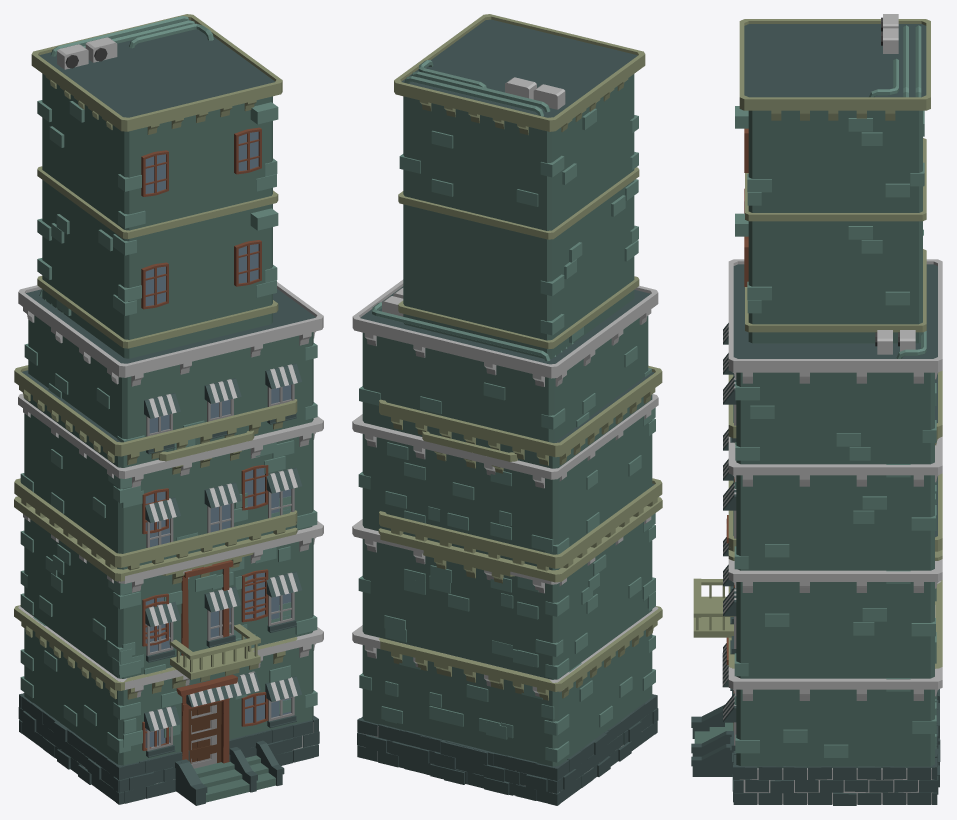
File: city.glb
3 renders of one model, left to right at view 1: azimuth 30°, elevation 25°; view 2: azimuth 150°, elevation 25°; view 3: azimuth 270°, elevation 25°, orthographic.
Parts seen in each view (by area): view 1: 6Story_Stack_Mat, 4Story_Mat, 2Story_Balcony_Mat, 3Story_Slim_Mat; view 2: 6Story_Stack_Mat, 4Story_Mat, 2Story_Balcony_Mat, 3Story_Slim_Mat; view 3: 4Story_Mat, 6Story_Stack_Mat, 2Story_Balcony_Mat.
Part boxes in pixels (box(x1,y1,x2,y2)): 6Story_Stack_Mat: box(14, 14, 297, 804); 4Story_Mat: box(18, 282, 323, 804); 2Story_Balcony_Mat: box(14, 478, 297, 805); 3Story_Slim_Mat: box(158, 430, 254, 793); 6Story_Stack_Mat: box(378, 14, 662, 805); 4Story_Mat: box(352, 279, 658, 804); 2Story_Balcony_Mat: box(379, 478, 662, 805); 3Story_Slim_Mat: box(422, 431, 517, 795); 4Story_Mat: box(691, 259, 942, 805); 6Story_Stack_Mat: box(709, 14, 942, 765); 2Story_Balcony_Mat: box(691, 473, 942, 779).
Bounding box in the file's own units: 2.47 × 7.82 × 2.53.
